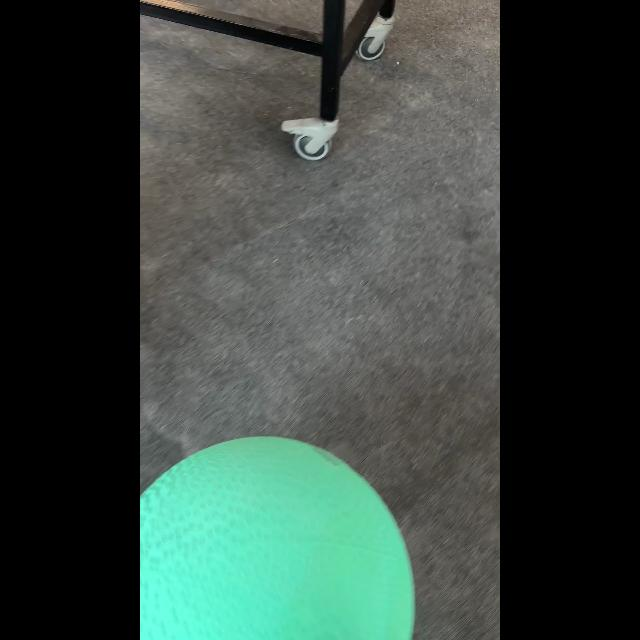ALGAE: (140, 434, 416, 638)
